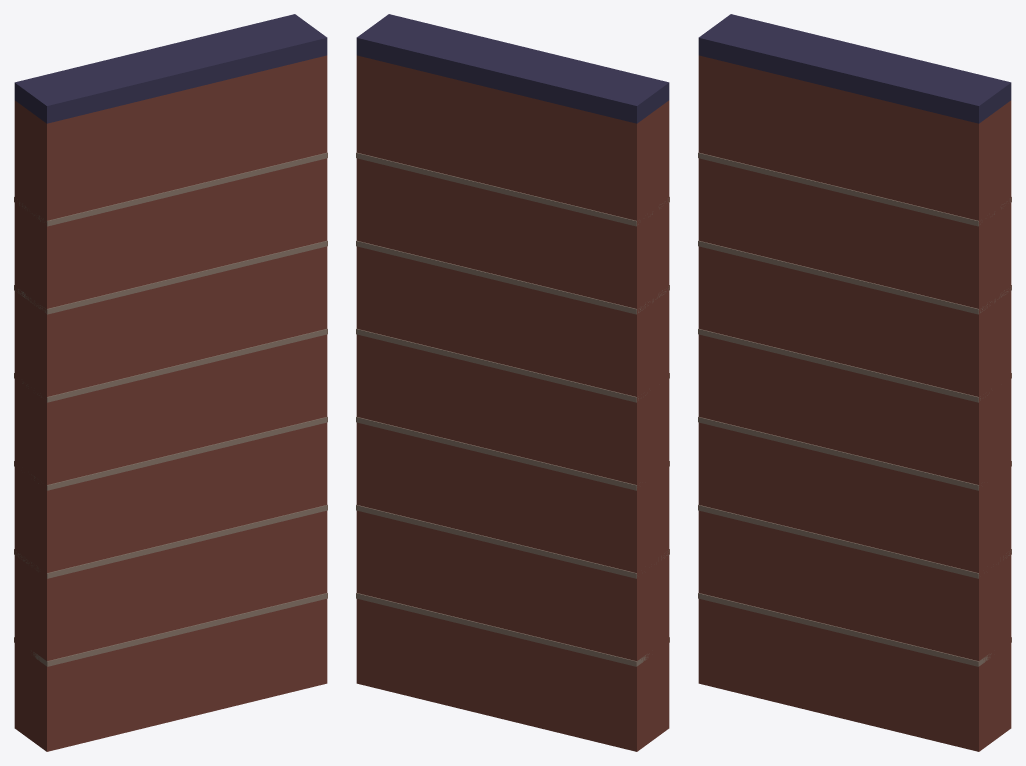
The model's file is raum_wand.glb.
The picture shows the model from 3 angles, left to right: view 1: azimuth 30°, elevation 25°; view 2: azimuth 150°, elevation 25°; view 3: azimuth 330°, elevation 25°; orthographic projection.
Parts seen in each view (by area): view 1: raum_wand; view 2: raum_wand; view 3: raum_wand.
Part boxes in pixels (bbox=[...]): raum_wand: bbox=[14, 14, 327, 751]; raum_wand: bbox=[356, 14, 669, 751]; raum_wand: bbox=[698, 14, 1011, 751].
Bounding box in the file's own units: 1 × 2.2 × 0.206.
